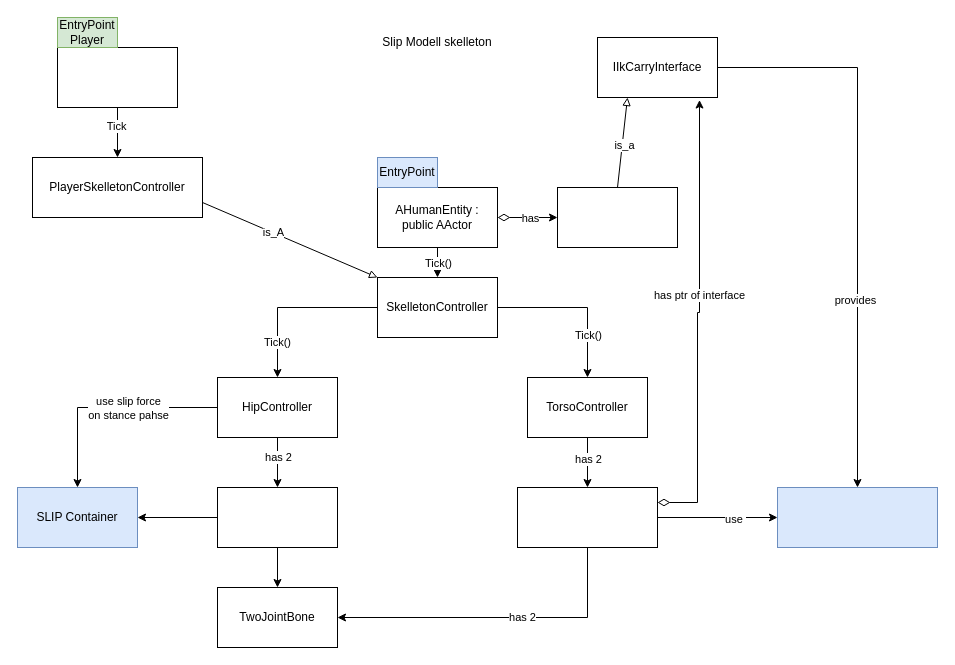
Image size: 955x665. Some labels were removed from this diagram. Each missing label, with the box of its shape:
ACarriedItem: (556, 186, 678, 248)
BoneAttachment: (216, 486, 338, 548)
CarriedItemPositionData: (776, 486, 938, 548)
LayeredTwoJointBone: (516, 486, 658, 548)
PlayerController: (56, 46, 178, 108)
